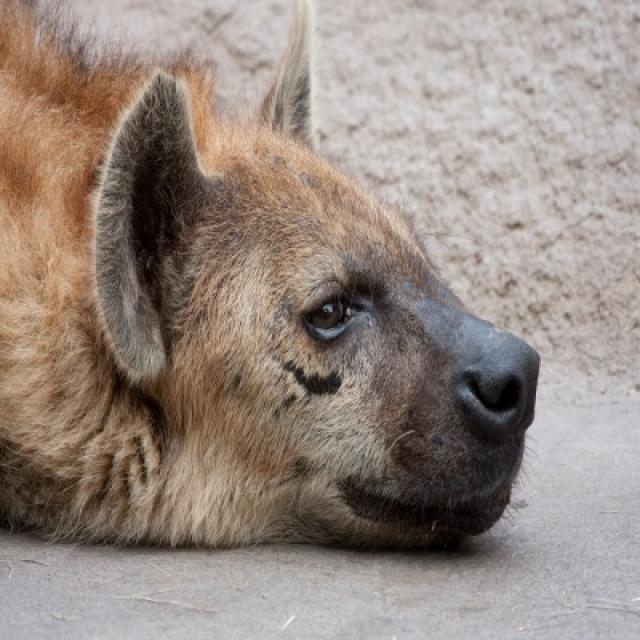hyena: (0, 0, 538, 546)
